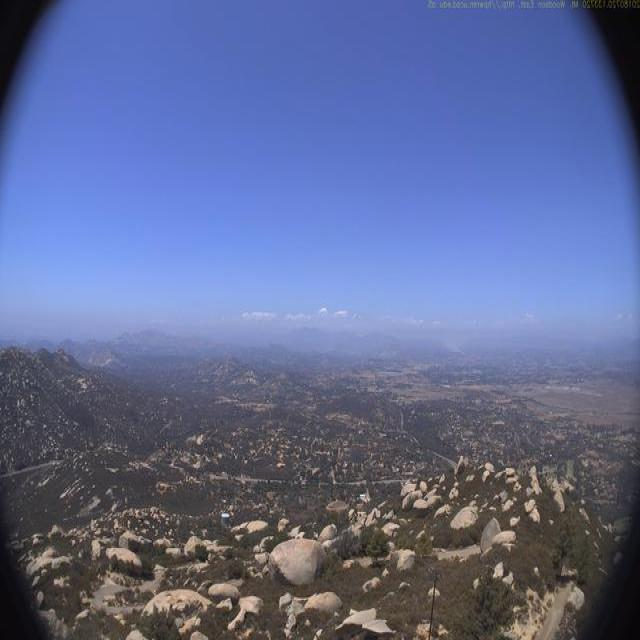Smoke: (61, 336, 127, 371)
